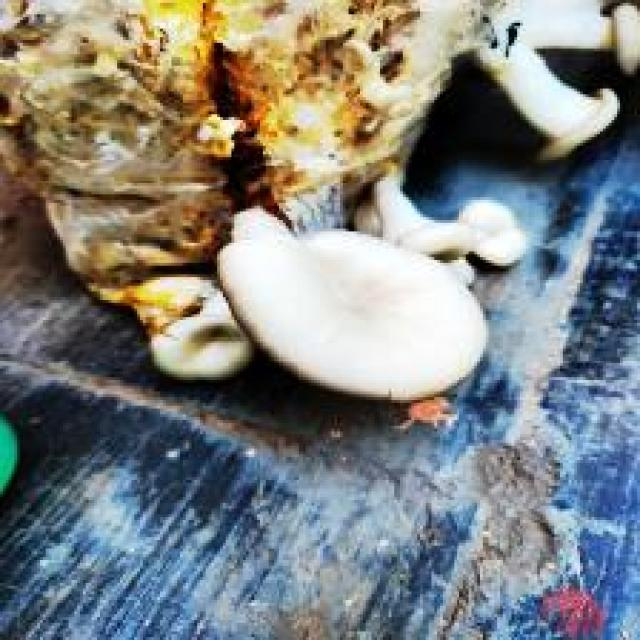chanterelle: (3, 0, 640, 400)
